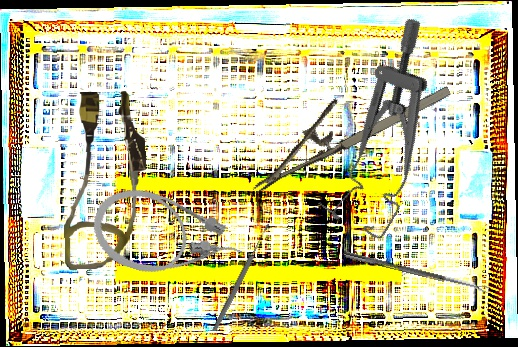Cannula: (83, 177, 251, 301), (59, 90, 150, 270)
Needle Holder: (232, 53, 455, 195)
Speculum: (300, 13, 486, 247)
Surgical Spoon: (211, 222, 272, 333), (342, 250, 490, 295)
